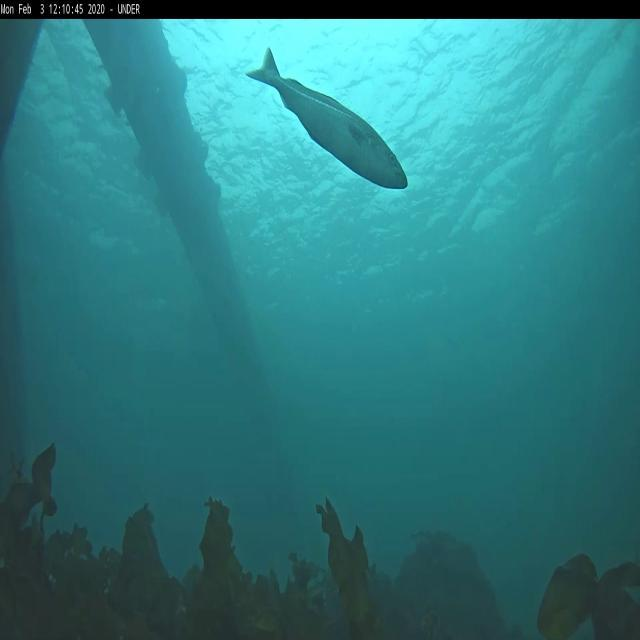fish: (250, 47, 408, 192)
